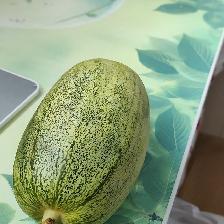gua: (31, 80, 128, 208)
